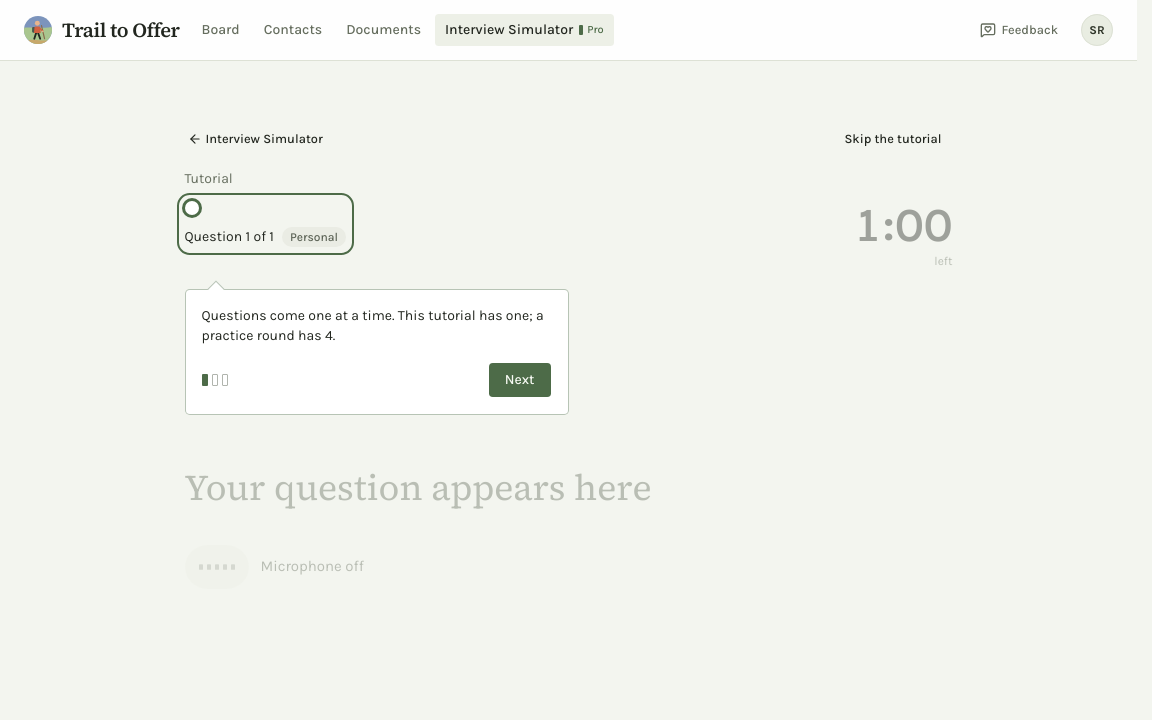
Scenario: the Tutorial's steps (practice feedback ticket 06) › TU-U1: before any clock runs, it points out how many questions there are, then the clock, then the microphone
Expected: the text "Question 1 of 1" is shown, [184,227,274,247]
Expected: the text "one at a time" is shown, [202,307,533,324]
Click the button "Next" at point(520, 380), box [488,362,552,398]
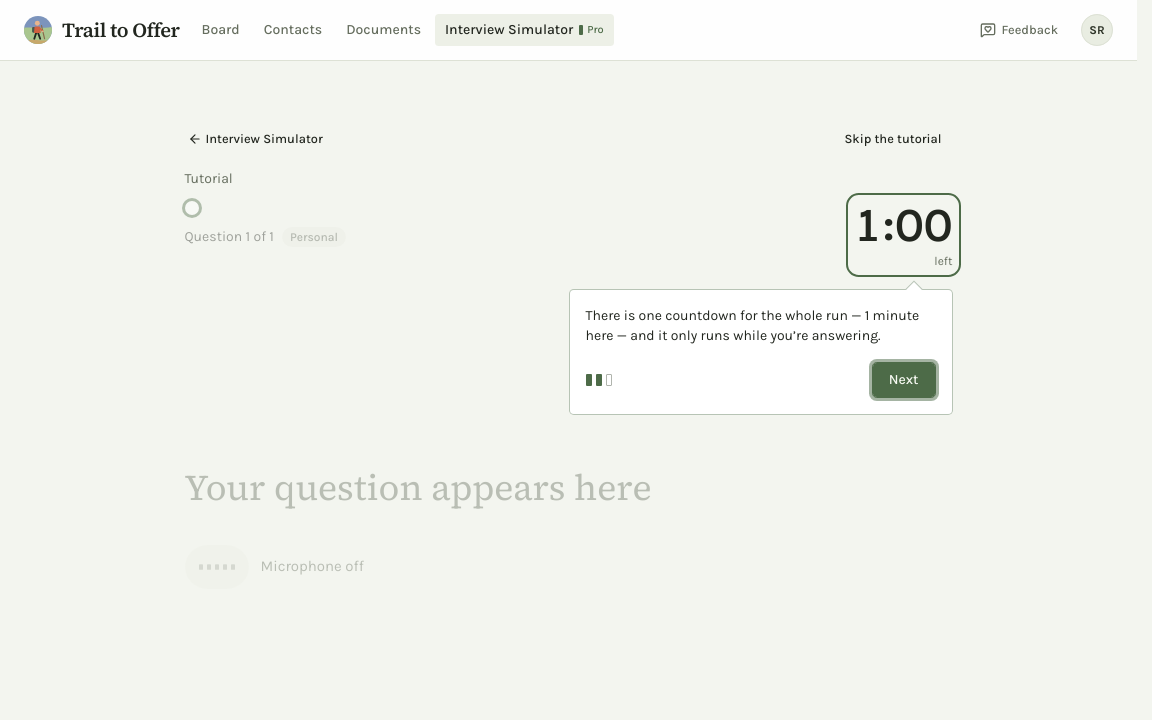
Expected: the text "one countdown" is shown, [586,307,865,324]
Click the button "Next" at point(904, 380), box [872,362,936,398]
Wait 20000 ms
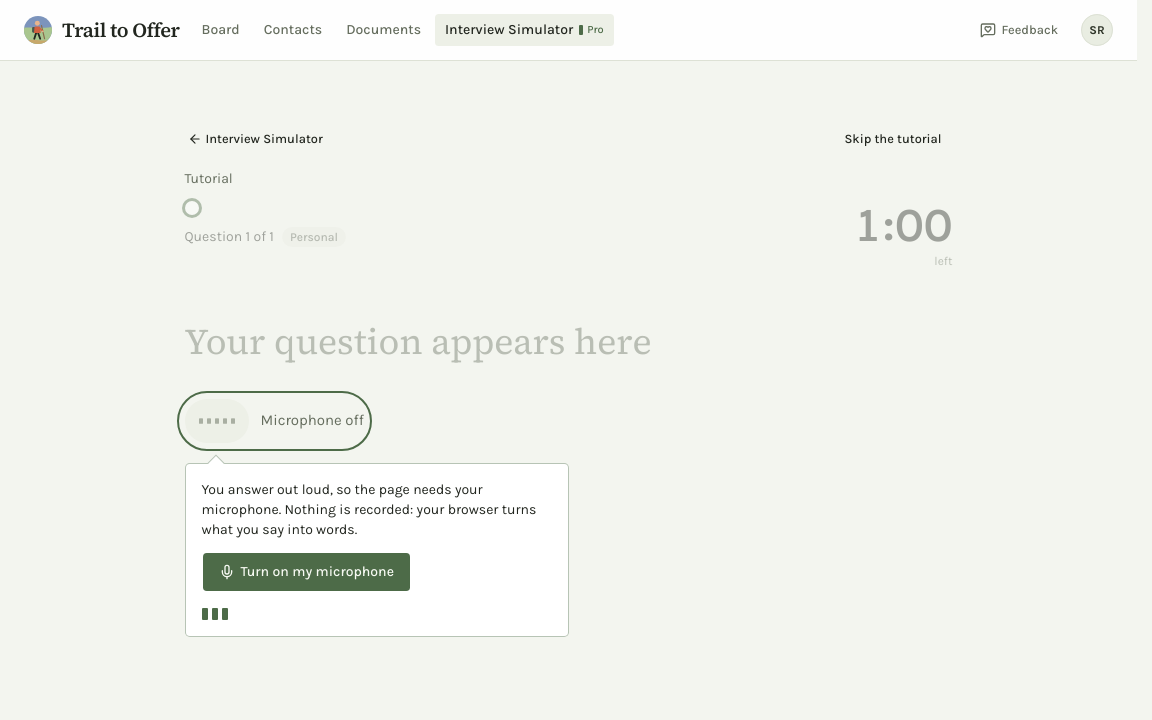
Expected: the element showing "1:00 left" is shown, [854,201,952,269]
Expected: the text "microphone" is shown, [202,480,536,538]
Expected: the button "Turn on my microphone" is shown, [202,552,411,592]
